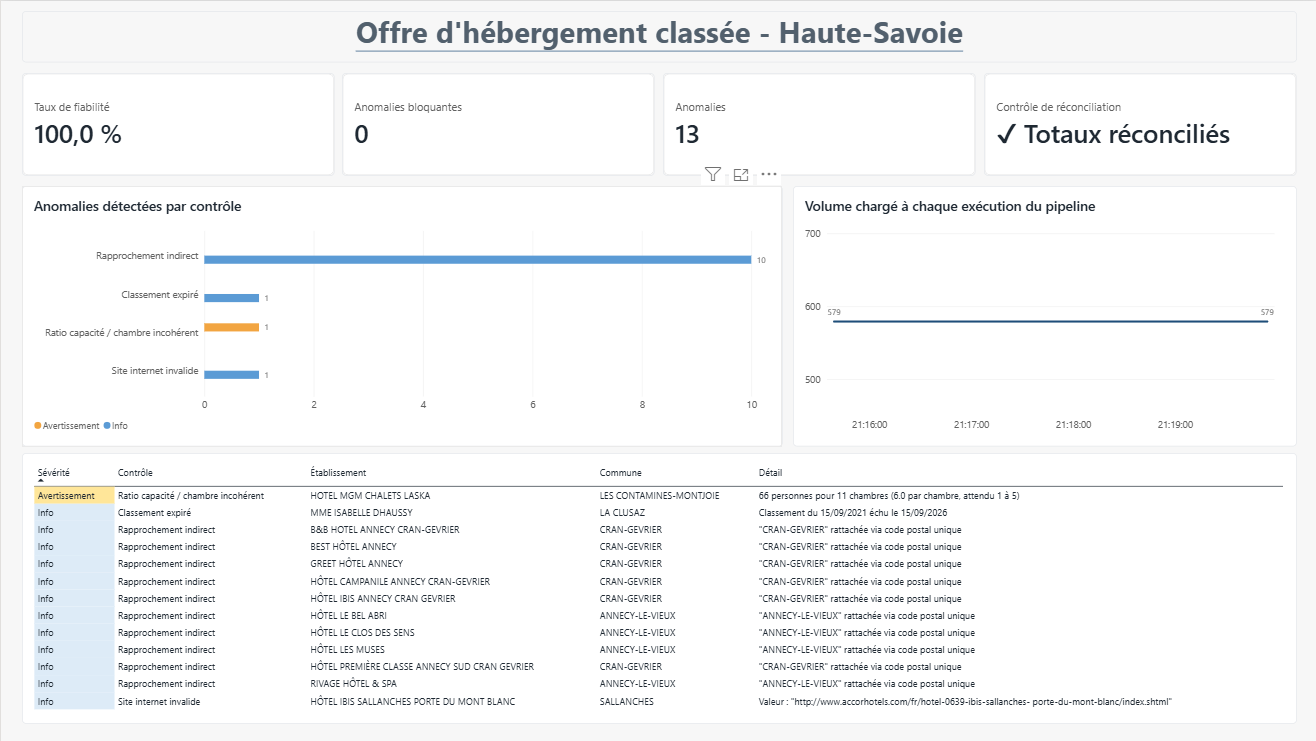

Layout of this report page (visuals, bound fields, positions):
{"tool":"powerbi","page":{"name":"Qualité des données","canvas":[1920,1080],"ordinal":3},"visuals":[{"type":"textbox","box":[30,15,1860,75],"z":0},{"type":"cardVisual","fields":{"Data":["Mesures.Taux de fiabilité"]},"box":[30,105,456,150],"z":1},{"type":"cardVisual","fields":{"Data":["Mesures.Anomalies bloquantes"]},"box":[498,105,456,150],"z":2},{"type":"cardVisual","fields":{"Data":["Mesures.Anomalies"]},"box":[966,105,456,150],"z":3},{"type":"cardVisual","fields":{"Data":["select","Mesures.Contrôle de réconciliation"]},"box":[1434,105,456,150],"z":4},{"type":"clusteredBarChart","title":"Anomalies détectées par contrôle","fields":{"Category":["mart_qualite_anomalies.controle"],"Series":["mart_qualite_anomalies.severite"],"Y":["Mesures.Anomalies"]},"box":[30,270,1110,380],"z":5},{"type":"lineChart","title":"Volume chargé à chaque exécution du pipeline","fields":{"Category":["mart_suivi_ingestions.ingere_le"],"Y":["Sum(mart_suivi_ingestions.nb_lignes)"]},"box":[1155,270,735,380],"z":6},{"type":"tableEx","fields":{"Values":["mart_qualite_anomalies.severite","mart_qualite_anomalies.controle","mart_qualite_anomalies.nom_commercial","mart_qualite_anomalies.commune_source","mart_qualite_anomalies.detail"]},"box":[30,660,1860,395],"z":7}]}

Visuals, with their boxes in screenshot pixels (x1, y1, x2, y2), scaled from the page's 1920x1080 canvas onto the 1316x741 screenshot:
textbox: Rect(21, 10, 1295, 62)
cardVisual - Mesures.Taux de fiabilité: Rect(21, 72, 333, 175)
cardVisual - Mesures.Anomalies bloquantes: Rect(341, 72, 654, 175)
cardVisual - Mesures.Anomalies: Rect(662, 72, 975, 175)
cardVisual - select x Mesures.Contrôle de réconciliation: Rect(983, 72, 1295, 175)
"Anomalies détectées par contrôle" clusteredBarChart: Rect(21, 185, 781, 446)
"Volume chargé à chaque exécution du pipeline" lineChart: Rect(792, 185, 1295, 446)
tableEx - mart_qualite_anomalies.severite x mart_qualite_anomalies.controle: Rect(21, 453, 1295, 724)
